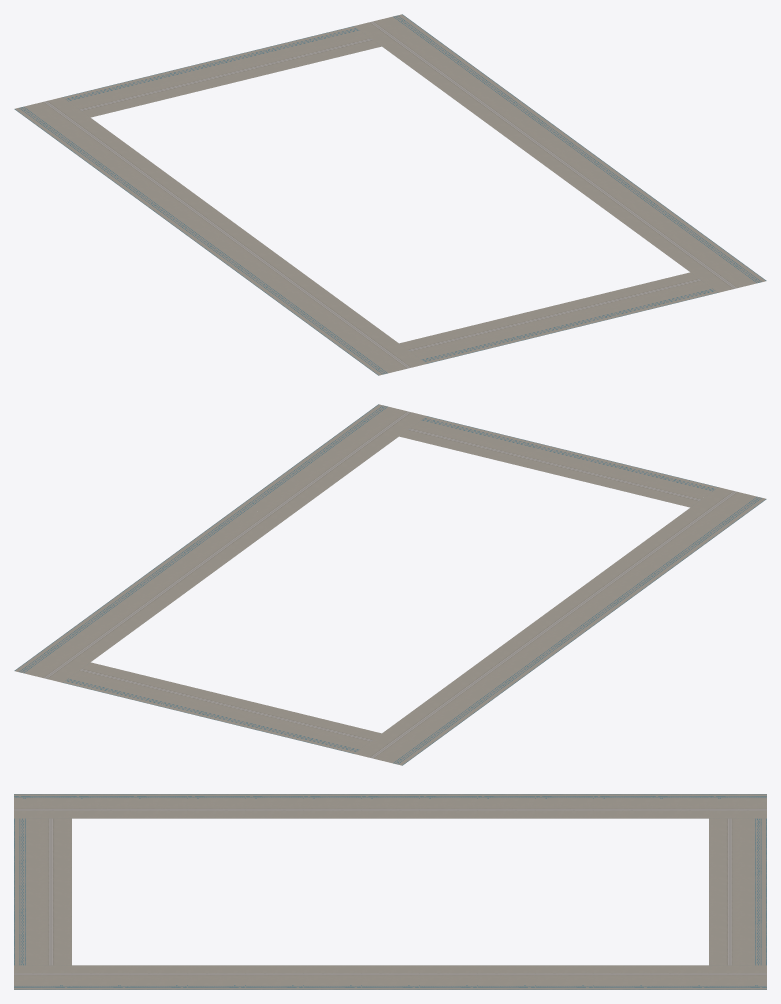
The model's file is Floor Pool Outer.fbx.
The picture shows the model from 3 angles, top to bottom: view 1: azimuth 30°, elevation 25°; view 2: azimuth 150°, elevation 25°; view 3: azimuth 270°, elevation 25°; orthographic projection. The views are drawn at different scales.
Parts seen in each view (by area): view 1: Floor_Pool_Outer; view 2: Floor_Pool_Outer; view 3: Floor_Pool_Outer.
Boxes of the visible parts, left/top/right/bottom form: Floor_Pool_Outer: left=14, top=14, right=766, bottom=375; Floor_Pool_Outer: left=14, top=404, right=766, bottom=765; Floor_Pool_Outer: left=14, top=794, right=766, bottom=989.
Bounding box in the file's own units: 2318 × 8.2e-05 × 3767.
1 material, 1 textured.
